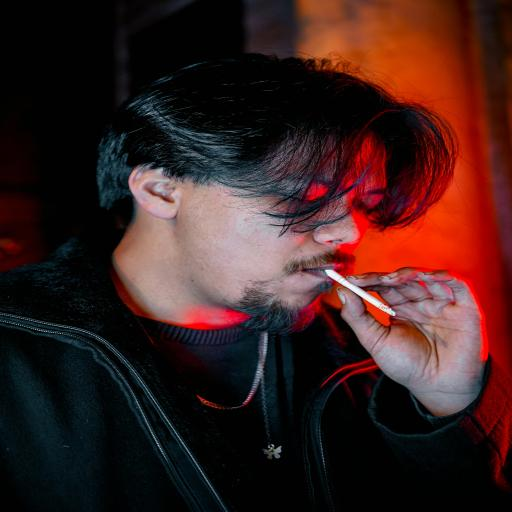terdeteksi merokok: (238, 166, 419, 337)
